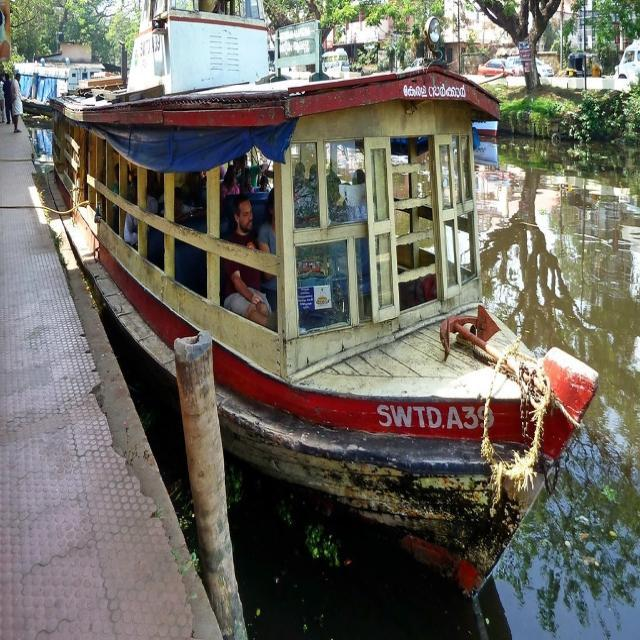boat: (39, 70, 576, 592)
